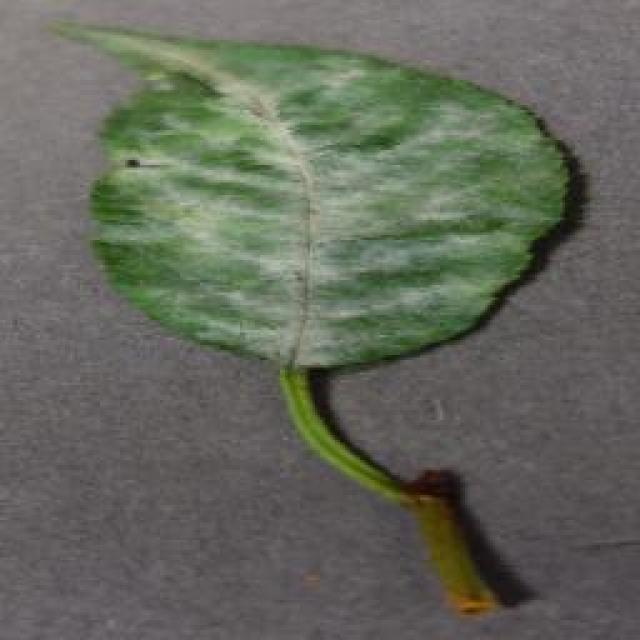Cherry___Powdery_mildew: (107, 31, 538, 382)
